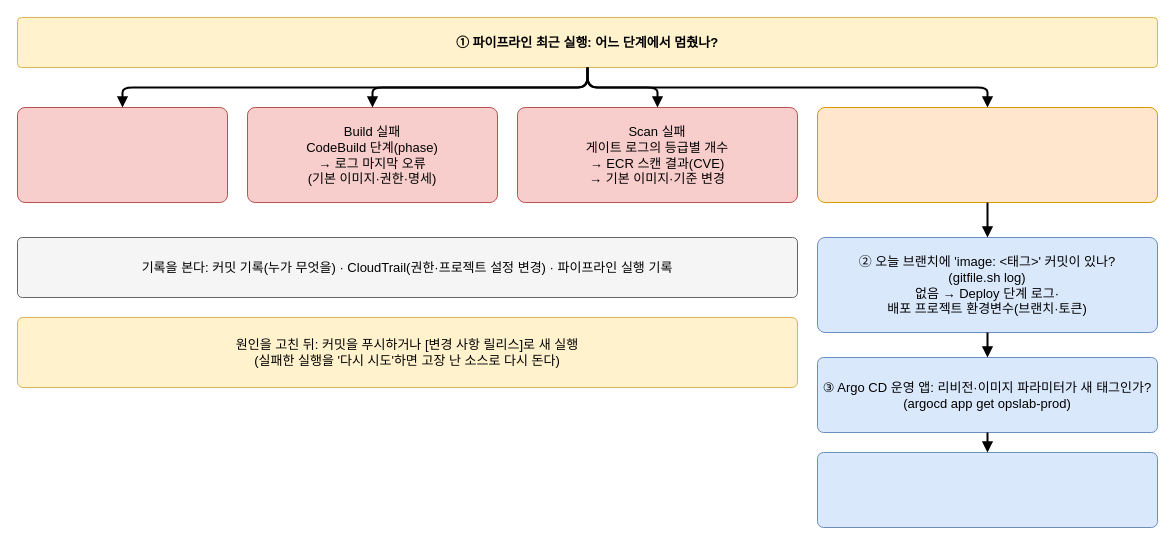
Some shapes in this 1175 by 545 pixel diagram are drawn without their labels. Each missing label, with the centre of its shape:
"Source 실패 GitHub 연결 상태 (AVAILABLE?)" goes at point 122,154.
"④ 파드: 새 파드가 이미지를 받았나? ImagePullBackOff → 이미지 주소·ECR 에 태그가 있나" goes at point 987,490.
"모두 성공인데 운영이 그대로 = 빌드 성공 후 배포 실패 → ②로" goes at point 987,154.
